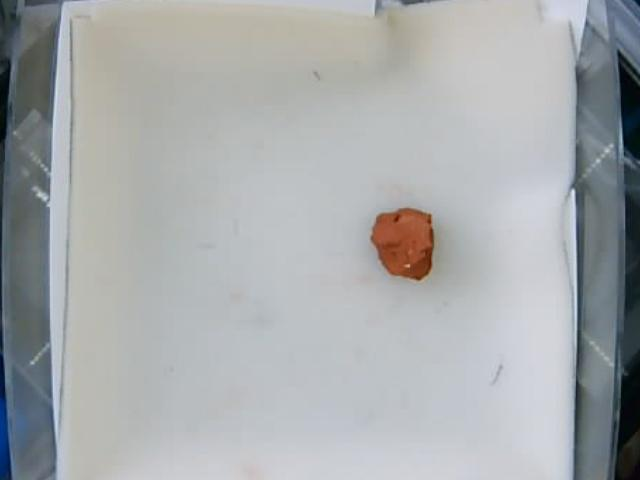Brisk: (372, 207, 436, 283)
